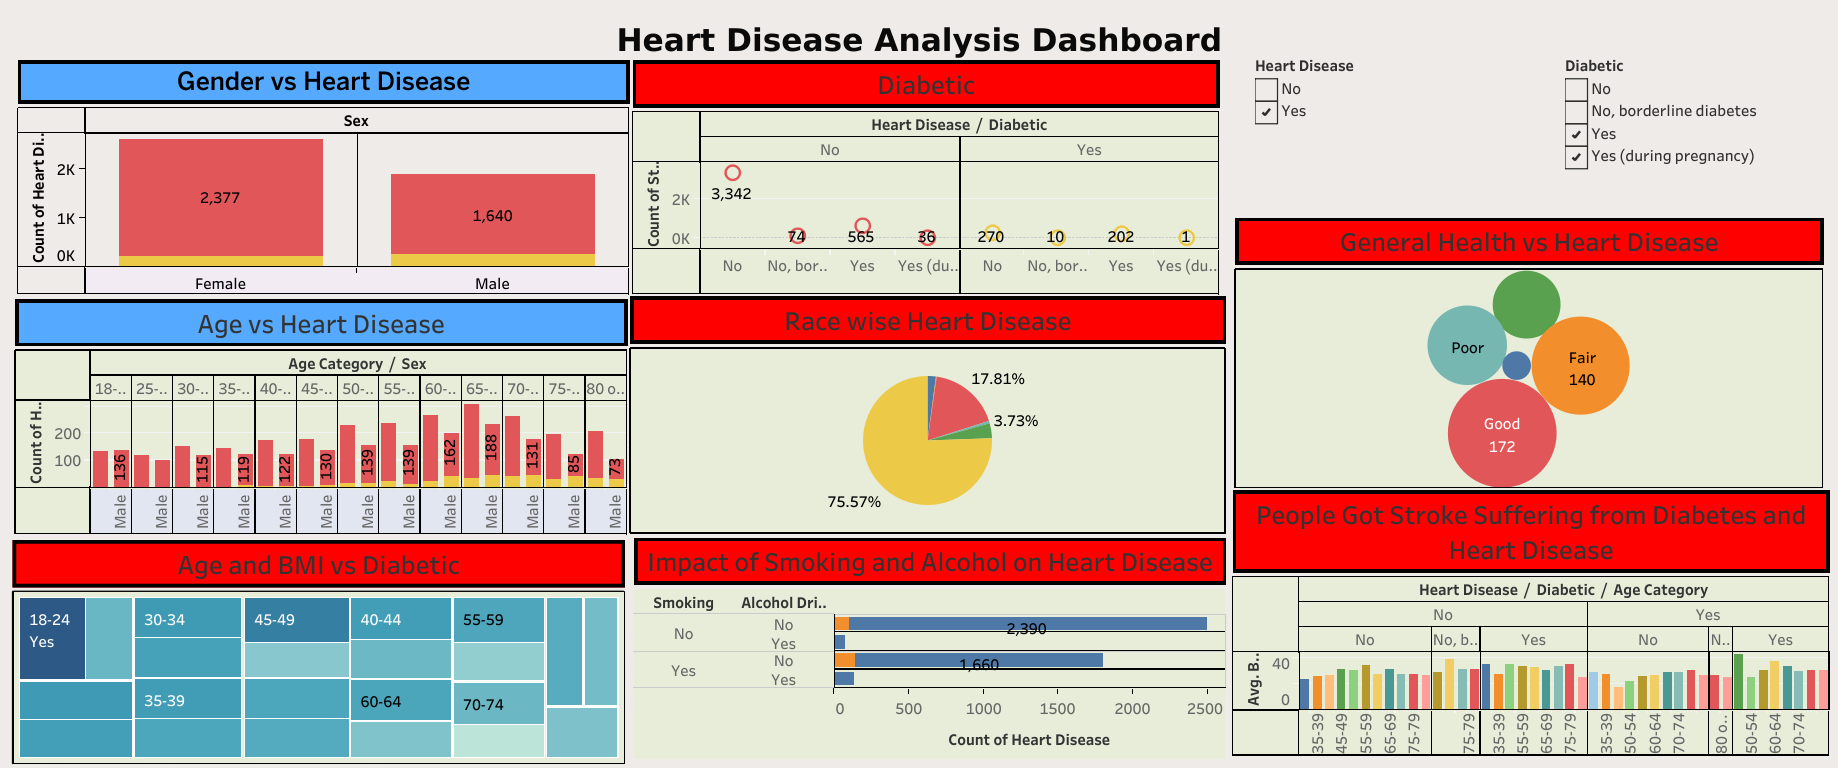

The page's visual inventory and layout, read from the dashboard file:
{"tool":"tableau","page":{"name":"Dashboard 1","canvas":[1000,1000],"units":"permille","ordinal":0},"visuals":[{"type":"title","box":[4.8,9.4,990.3,55.2]},{"type":"filter","title":"Sheet 7","param":"[federated.0zu1bf50yrx2g8167fs5x0sgqo1y].[none:HeartDisease:nk]","box":[682.6,68.2,114.7,181]},{"type":"filter","title":"Sheet 9","param":"[federated.0zu1bf50yrx2g8167fs5x0sgqo1y].[none:Diabetic:nk]","box":[850.9,68.2,117.7,192.7]},{"type":"worksheet","title":"Sheet 3","mark":"Shape","rows":["Stroke"],"cols":["HeartDisease","Diabetic"],"box":[344,77.6,319.2,305.5]},{"type":"worksheet","title":"Sheet 1","mark":"Automatic","rows":["HeartDisease"],"cols":["Sex"],"box":[9.6,78.7,333.1,304.4]},{"type":"worksheet","title":"Sheet 7","mark":"Circle","box":[671.7,283.2,320.5,352.5]},{"type":"worksheet","title":"Sheet 6","mark":"Pie","box":[342.8,385.4,324.1,309.1]},{"type":"worksheet","title":"Sheet 2","mark":"Automatic","rows":["HeartDisease"],"cols":["AgeCategory","Sex"],"box":[8.4,388.9,333.1,309.1]},{"type":"worksheet","title":"Sheet 10","mark":"Automatic","rows":["BMI"],"cols":["HeartDisease","Diabetic","AgeCategory"],"box":[670.5,636.9,324.7,347.8]},{"type":"worksheet","title":"Sheet 4","mark":"Automatic","rows":["Smoking","AlcoholDrinking"],"cols":["HeartDisease"],"box":[344.6,699.2,322.3,290.2]},{"type":"worksheet","title":"Sheet 9","mark":"Automatic","box":[6.6,702.7,333.1,293.8]}]}

Visuals, with their boxes on the dashboard's canvas, which has no fixed pixel size, in thousandths of its width and height (x1, y1, x2, y2). These are canvas units, not pixel positions in the 1838x768 screenshot, which may show the page scaled, cropped or inside an application window:
title: <region>5, 9, 995, 65</region>
"Sheet 7" filter: <region>683, 68, 797, 249</region>
"Sheet 9" filter: <region>851, 68, 969, 261</region>
"Sheet 3" worksheet (Shape marks): <region>344, 78, 663, 383</region>
"Sheet 1" worksheet: <region>10, 79, 343, 383</region>
"Sheet 7" worksheet (Circle marks): <region>672, 283, 992, 636</region>
"Sheet 6" worksheet (Pie marks): <region>343, 385, 667, 694</region>
"Sheet 2" worksheet: <region>8, 389, 342, 698</region>
"Sheet 10" worksheet: <region>670, 637, 995, 985</region>
"Sheet 4" worksheet: <region>345, 699, 667, 989</region>
"Sheet 9" worksheet: <region>7, 703, 340, 996</region>
